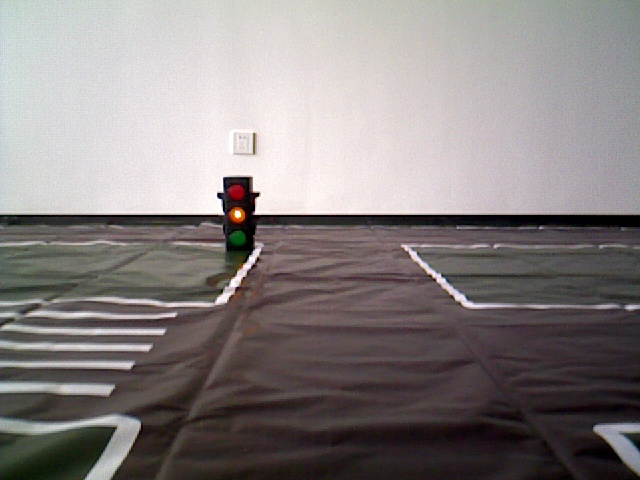yellow: (221, 180, 253, 244)
